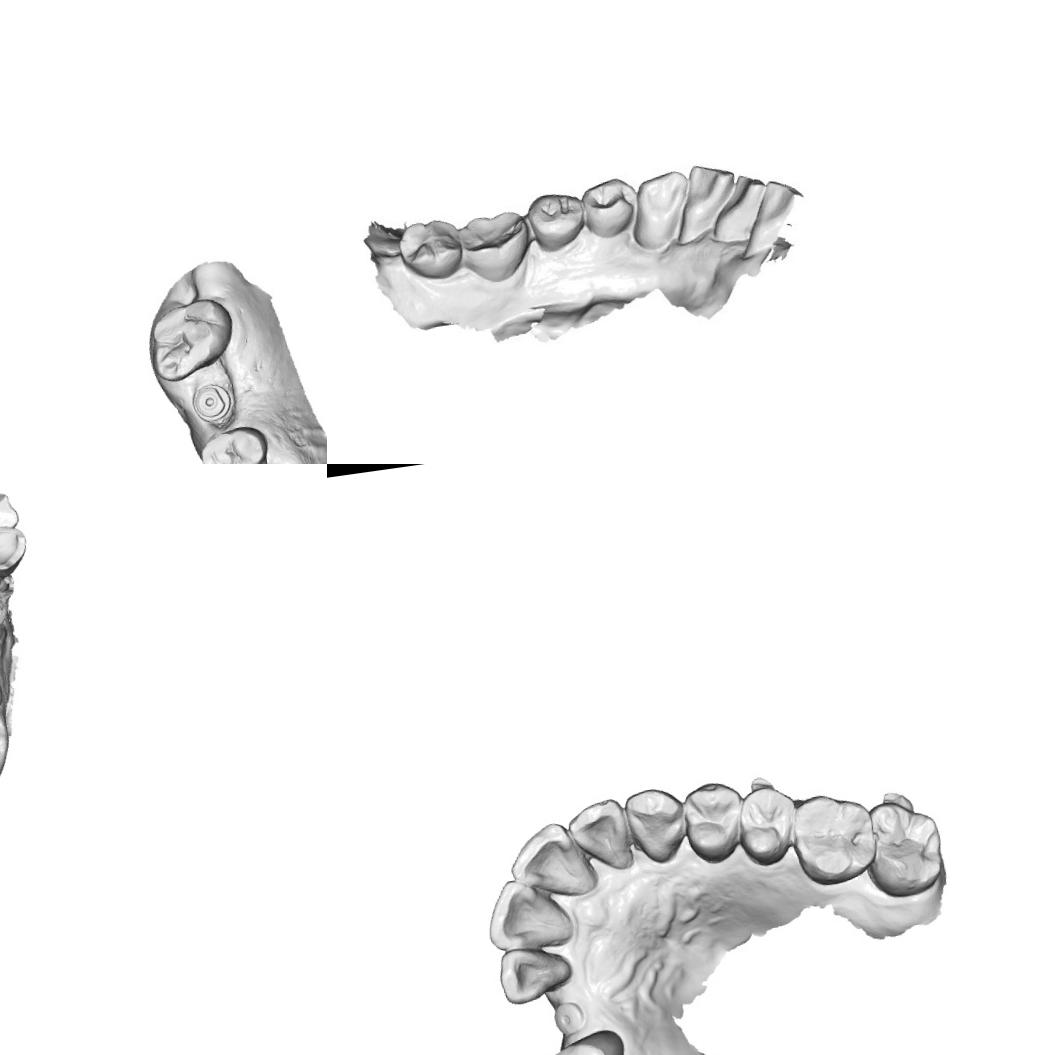canine: (624, 163, 700, 256), (623, 783, 690, 867), (0, 522, 31, 577)
implant: (188, 380, 236, 426), (550, 999, 587, 1038), (0, 594, 10, 630)
incisor: (503, 817, 600, 905), (482, 871, 580, 954), (744, 176, 820, 262), (564, 796, 636, 876), (668, 156, 736, 238), (707, 163, 770, 249), (495, 942, 577, 1008), (0, 487, 22, 541)
molar: (784, 787, 880, 891), (858, 795, 949, 900), (140, 294, 240, 385), (454, 207, 532, 290), (394, 210, 468, 287)
premolar: (678, 778, 750, 867), (730, 782, 802, 870), (523, 182, 589, 253), (579, 173, 641, 238), (196, 423, 273, 464), (535, 1027, 633, 1055)
